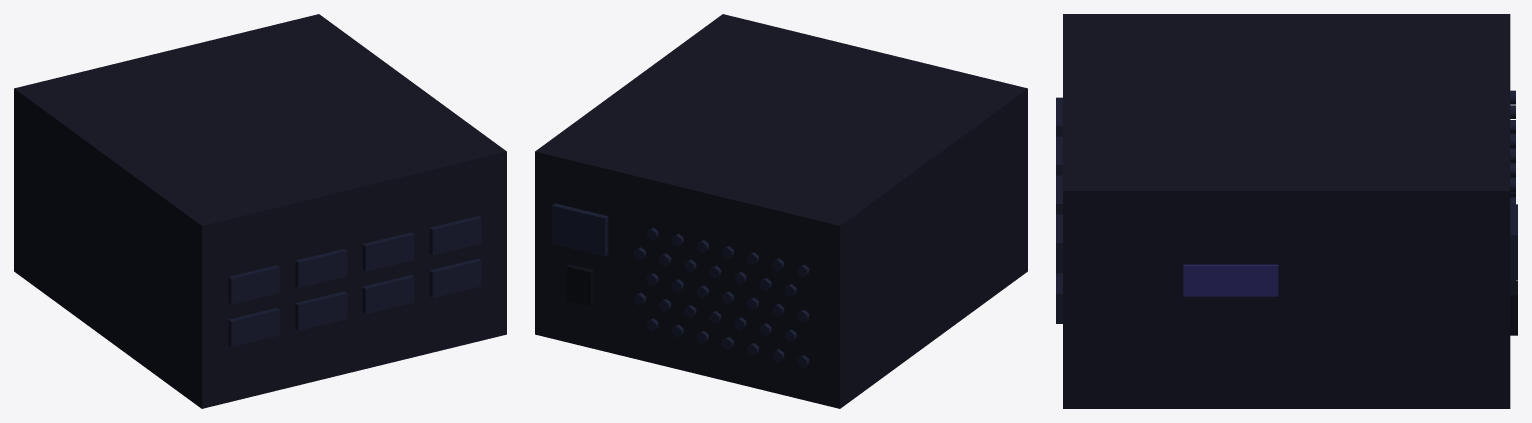
Rendered from psu-atx.glb.
The picture shows the model from 3 angles, left to right: view 1: azimuth 30°, elevation 25°; view 2: azimuth 150°, elevation 25°; view 3: azimuth 270°, elevation 25°; orthographic projection. The views are drawn at different scales.
Parts seen in each view (by area): view 1: psu_body, modular_sockets; view 2: psu_body, rear_honeycomb, ac_socket, power_switch; view 3: psu_body, brand_badge, modular_sockets, rear_honeycomb, ac_socket, power_switch.
Part boxes in pixels (x1=…): psu_body: x1=14, y1=14, x2=506, y2=408; modular_sockets: x1=228, y1=216, x2=481, y2=346; psu_body: x1=535, y1=14, x2=1027, y2=408; rear_honeycomb: x1=634, y1=227, x2=809, y2=368; ac_socket: x1=552, y1=203, x2=608, y2=256; power_switch: x1=566, y1=264, x2=593, y2=306; psu_body: x1=1063, y1=14, x2=1510, y2=408; brand_badge: x1=1183, y1=264, x2=1278, y2=296; modular_sockets: x1=1056, y1=97, x2=1062, y2=323; rear_honeycomb: x1=1510, y1=90, x2=1515, y2=280; ac_socket: x1=1510, y1=204, x2=1517, y2=280; power_switch: x1=1510, y1=281, x2=1517, y2=335.
Size of the model in its own units: 151 by 88.6 by 165.
